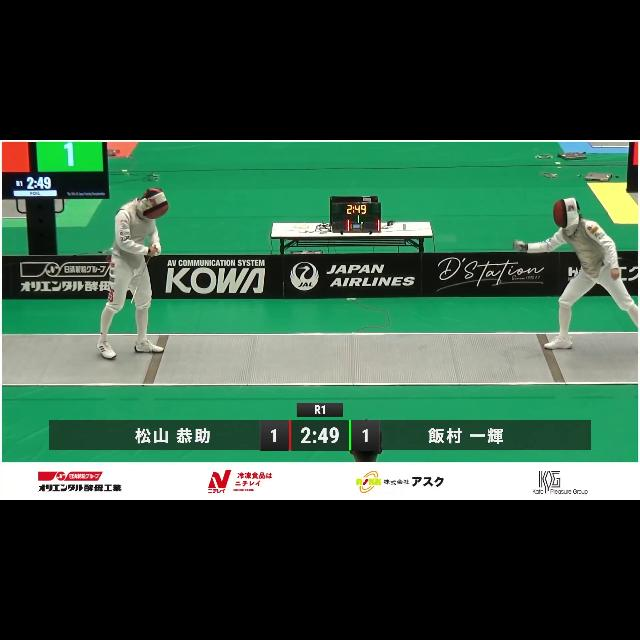blade: (128, 242, 162, 308), (428, 232, 526, 252)
